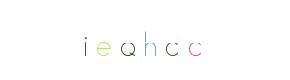C: (106, 0, 186, 80), (153, 0, 233, 80)
E: (89, 0, 169, 80)
H: (105, 0, 185, 80)
I: (63, 0, 143, 80)
Q: (98, 0, 178, 80)
